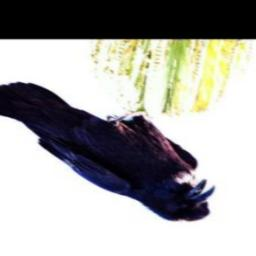Crow: (0, 82, 214, 223)
